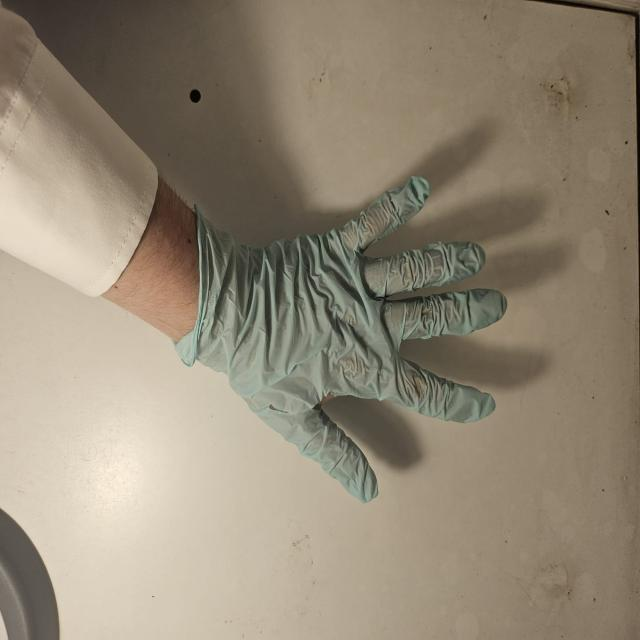gloves_damaged: (178, 172, 510, 503)
